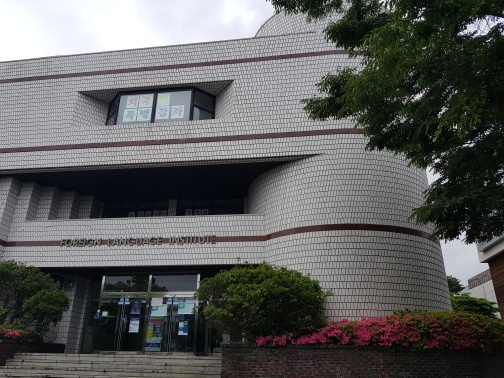Foreign Language Institute: (7, 7, 476, 375), (24, 210, 260, 378), (73, 76, 234, 127), (51, 230, 226, 254)
